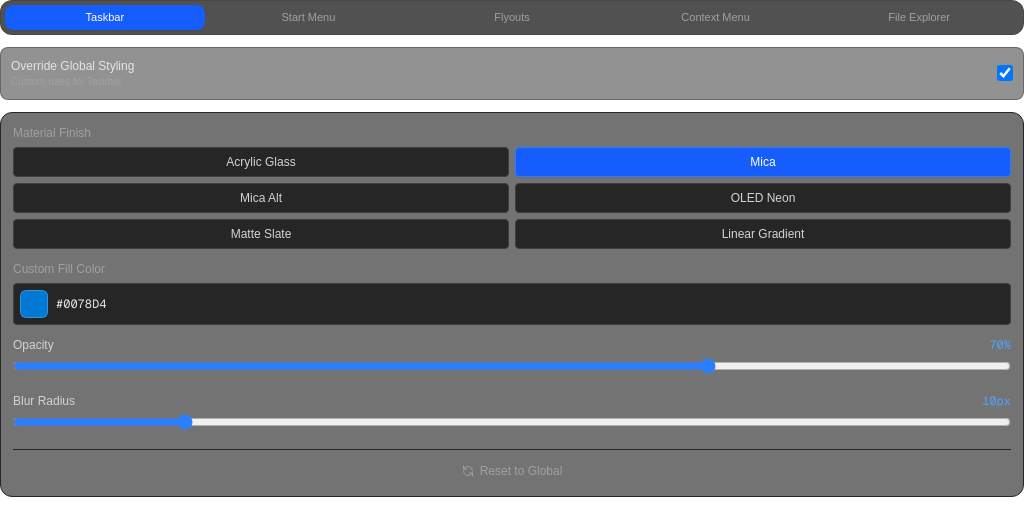
it: ComponentIsolationSection › clicking Reset to Global sets enabled to false
Click the button "Reset to Global" at (512, 470), box [13,458,1011,484]
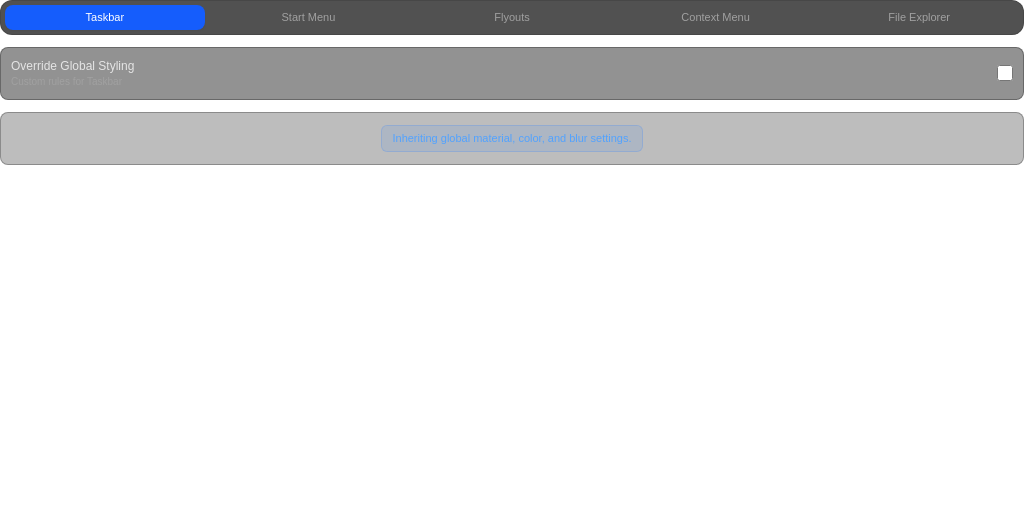
expect the text "Inheriting global material, color, and blur settings." is shown: met, box [382,124,643,152]
